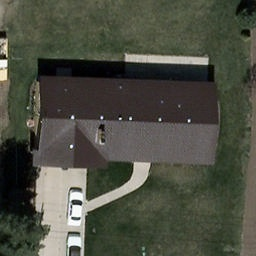car: (69, 189, 82, 228)
pickup: (0, 36, 8, 81)
